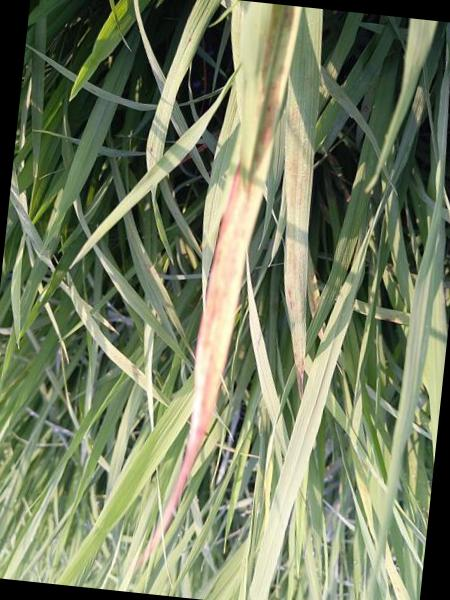Leaf Streak: (163, 3, 301, 527), (284, 93, 315, 385)
